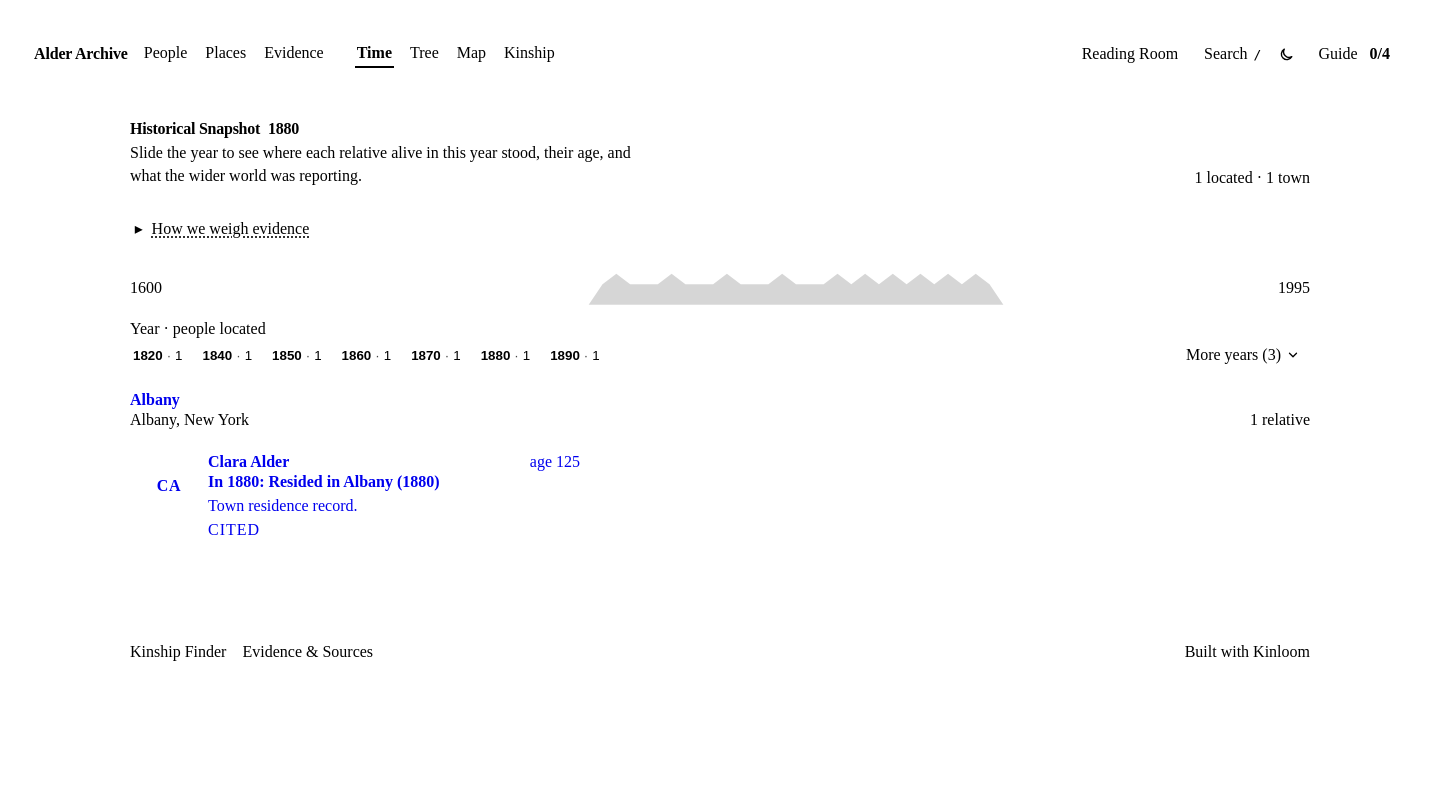
TimePage mobile scrubber non-occlusion, density ridgeline, blurbs, and year/count spacing (#63) › caps desktop milestone chips to 6 and discloses additional anchor years behind More years popover (#101)
Later steps or results of the test are not shown.
Click the button "More years (3)" at (1243, 355), box [1176,342,1310,368]
Click the button "More years (3)" at (1243, 355), box [1176,342,1310,368]
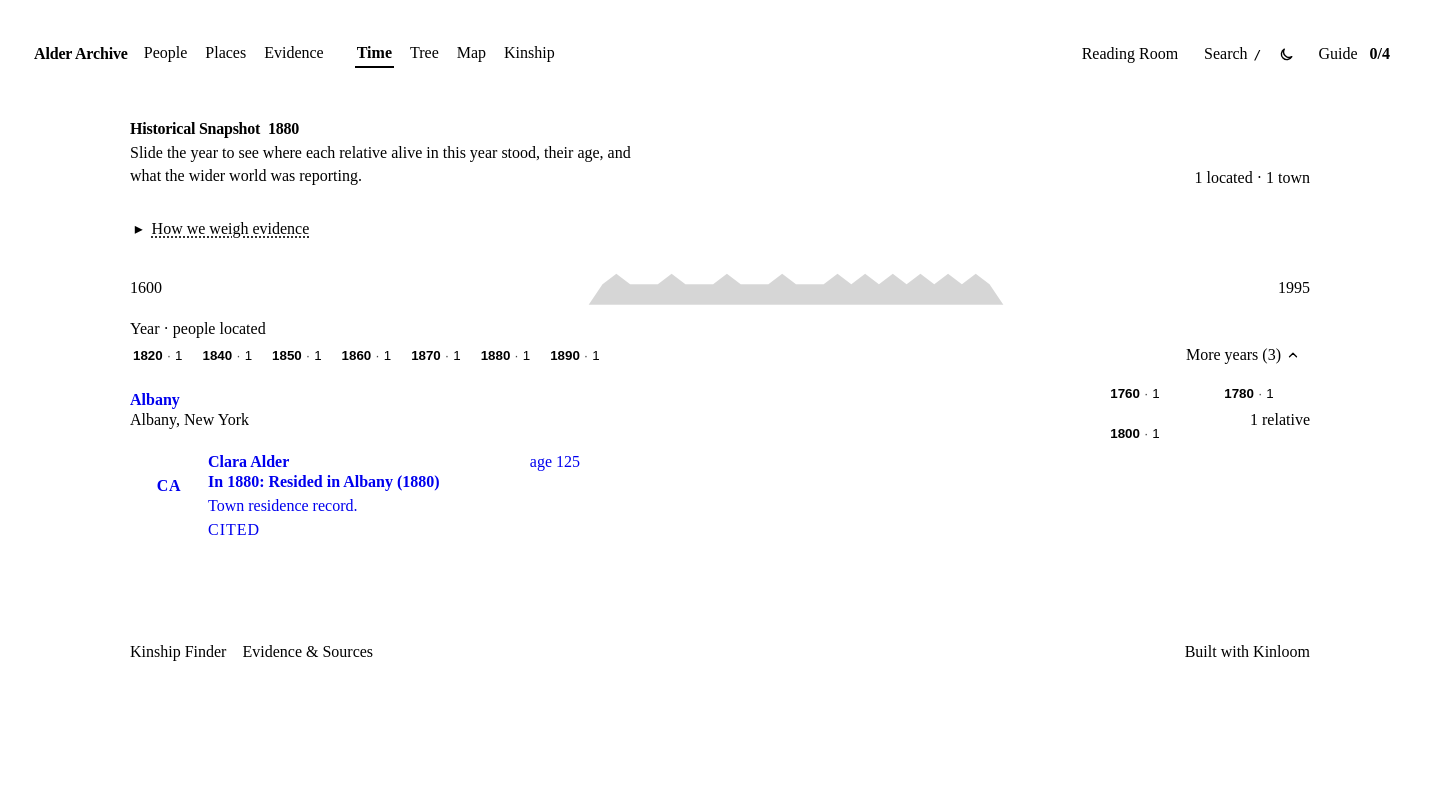
Press the mouse on the element that starts with "Skip to content" at (720, 352), box [8,8,1432,695]
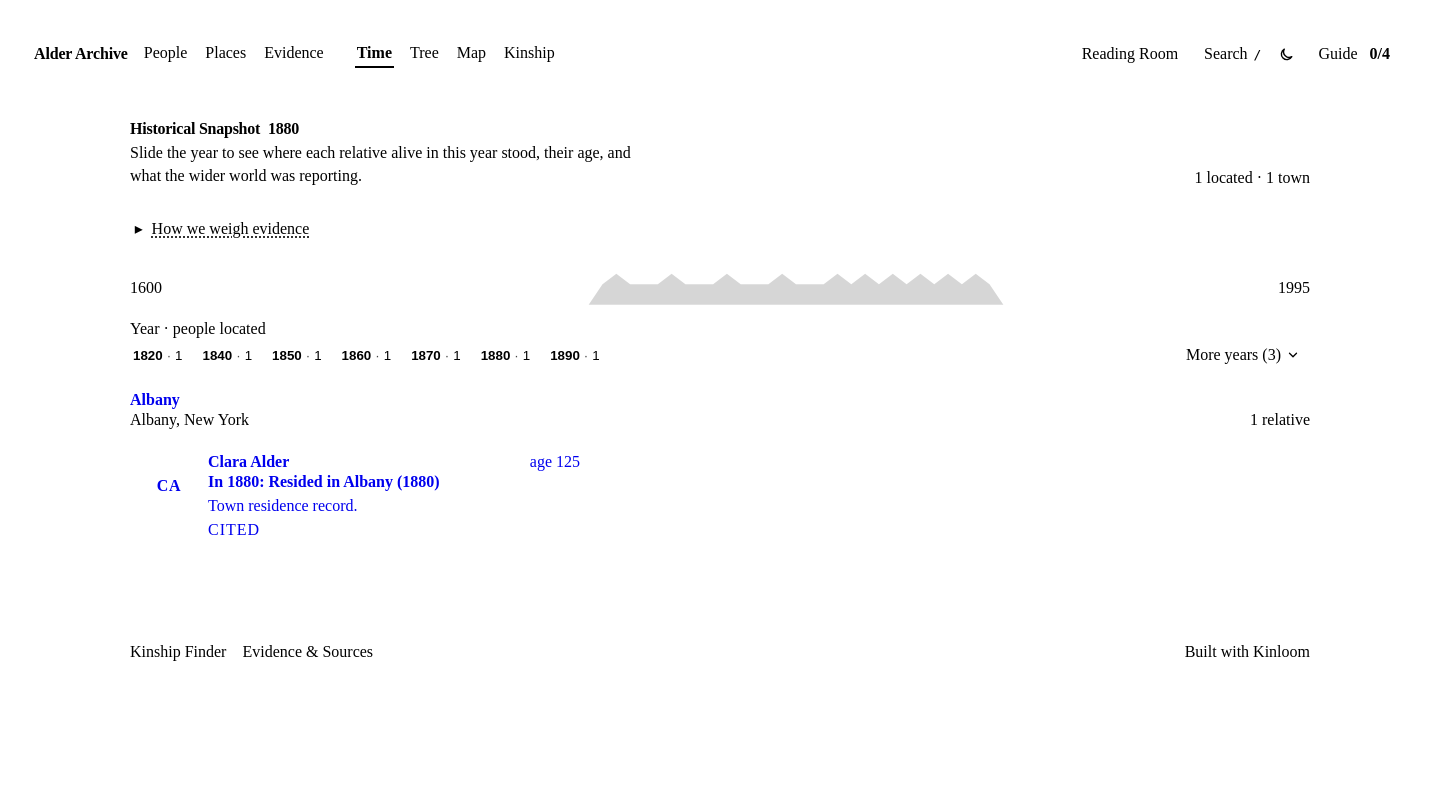
expect the button "More years (3)" is collapsed: met
Click the button "More years (3)" at (1243, 355), box [1176,342,1310,368]
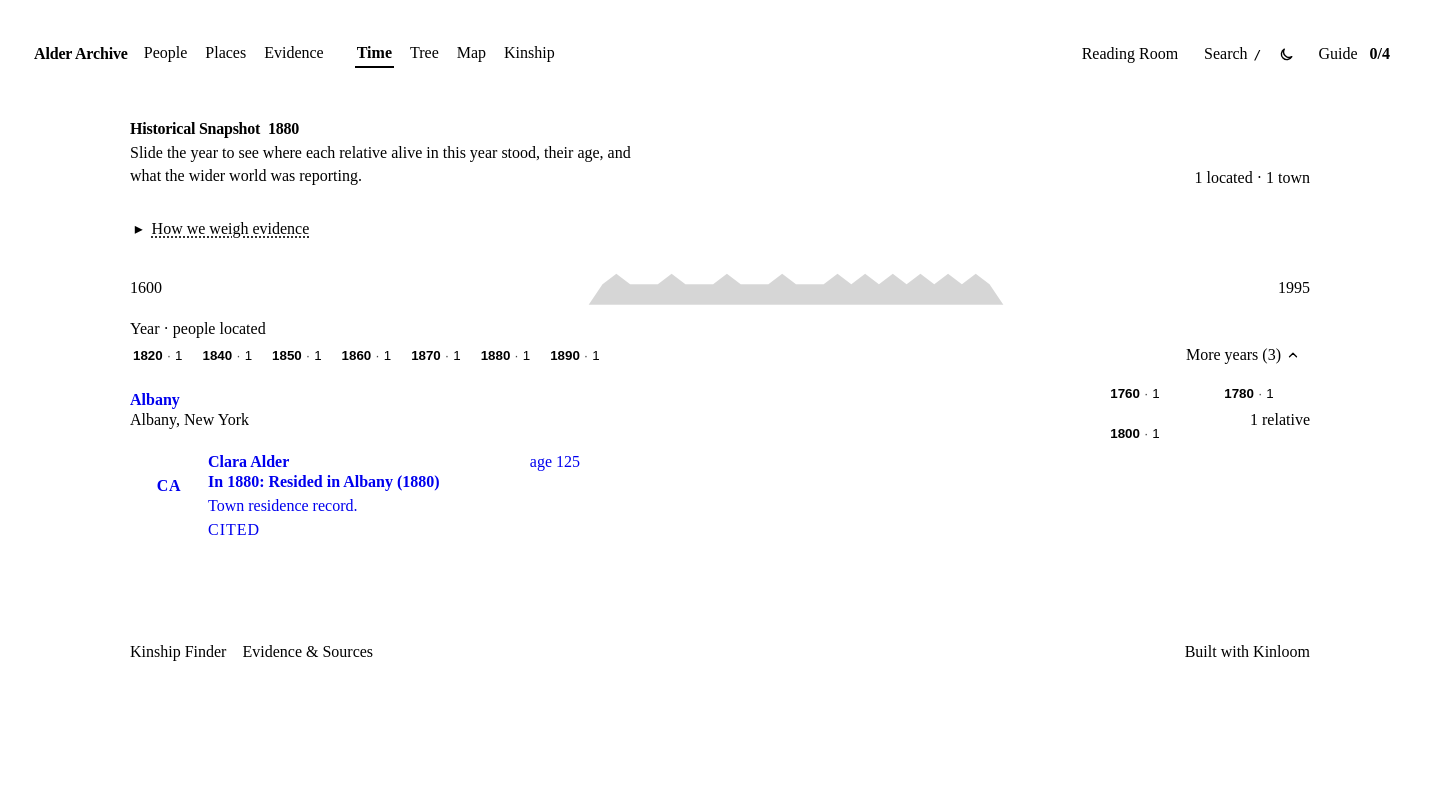
expect the button "1760 · 1" is shown: met
Click the button "1760 · 1" at (1135, 398), box [1080,380,1190,416]
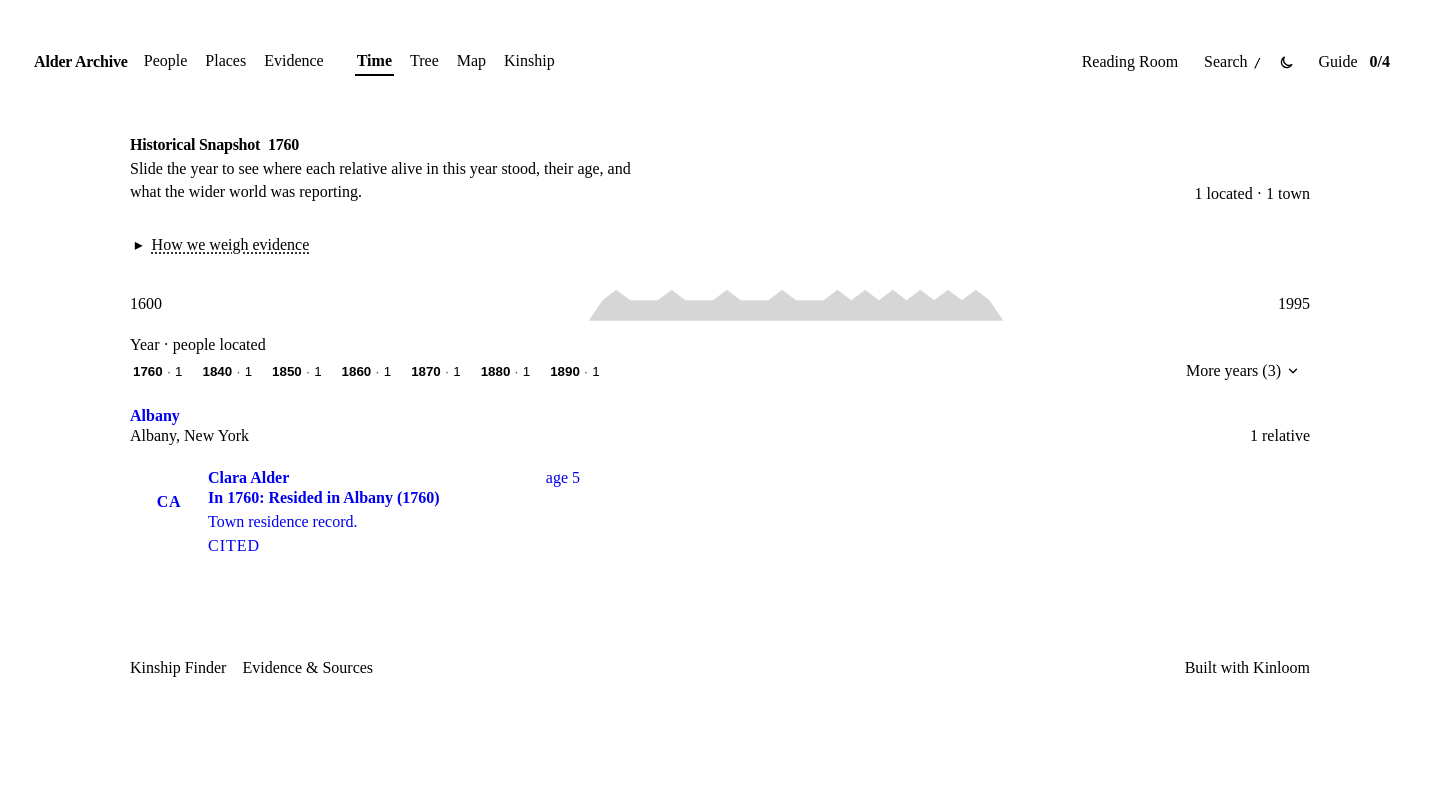
expect the text "1760" next to "Historical Snapshot" is shown: met, box [268,136,299,153]
